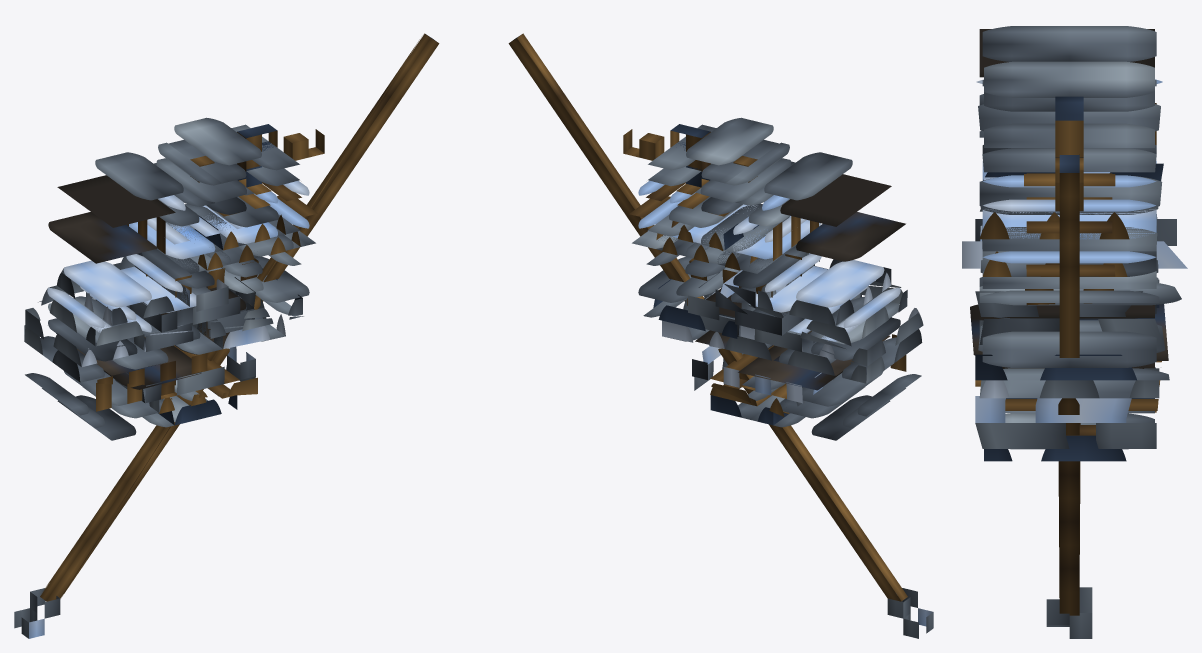
Rendered from thunderhead_bow.obj.
3 views of the same model, side by side, from view 1: azimuth 30°, elevation 25°; view 2: azimuth 150°, elevation 25°; view 3: azimuth 270°, elevation 25° (orthographic). The views are drawn at different scales.
Parts seen in each view (by area): view 1: lit, fire; view 2: lit, fire; view 3: lit, fire.
Part boxes in pixels (bbox=[...]): lit: bbox=[14, 117, 317, 638]; fire: bbox=[40, 33, 439, 601]; lit: bbox=[629, 117, 933, 638]; fire: bbox=[508, 33, 907, 601]; lit: bbox=[962, 26, 1187, 638]; fire: bbox=[1055, 96, 1083, 615].
Bounding box in the file's own units: 0.8438 × 0.9688 × 0.2474.
